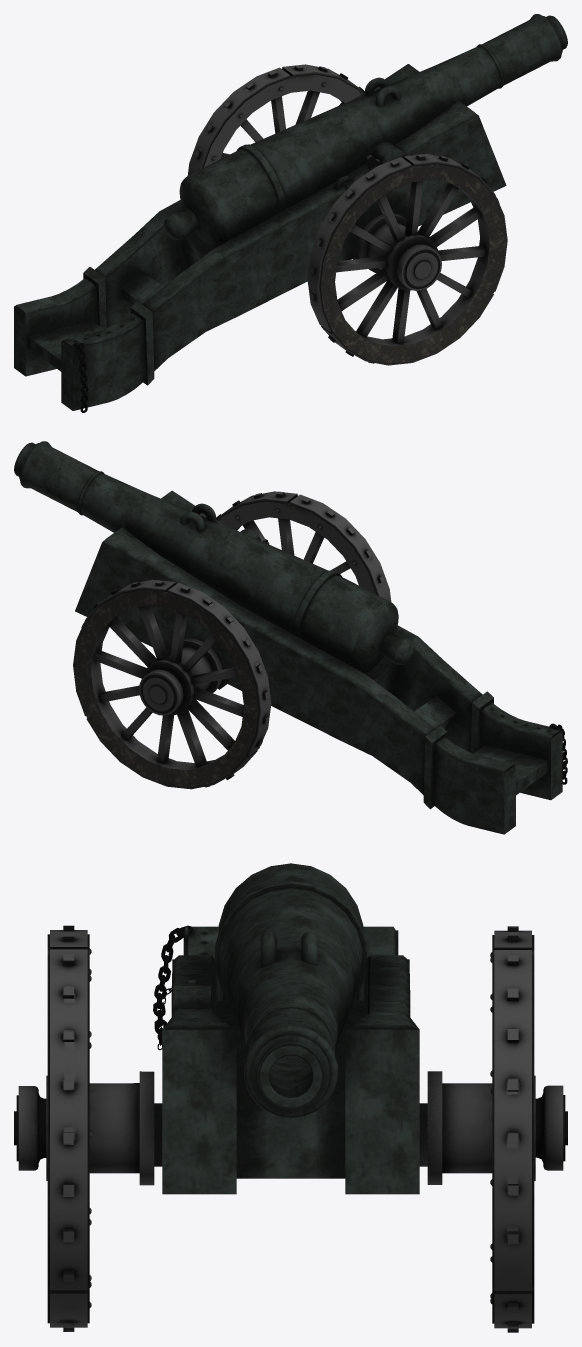
The model's file is cannon.fbx.
3 views of the same model, one above another, from view 1: azimuth 30°, elevation 25°; view 2: azimuth 150°, elevation 25°; view 3: azimuth 270°, elevation 25° (orthographic). The views are drawn at different scales.
Visible parts, largest first — view 1: cannon; view 2: cannon; view 3: cannon.
Part boxes in pixels (box(x1,y1,x2,y2)): cannon: box(14, 14, 567, 412); cannon: box(14, 441, 567, 834); cannon: box(14, 863, 567, 1332).
Size of the model in its own units: 2414 by 1121 by 1226.
